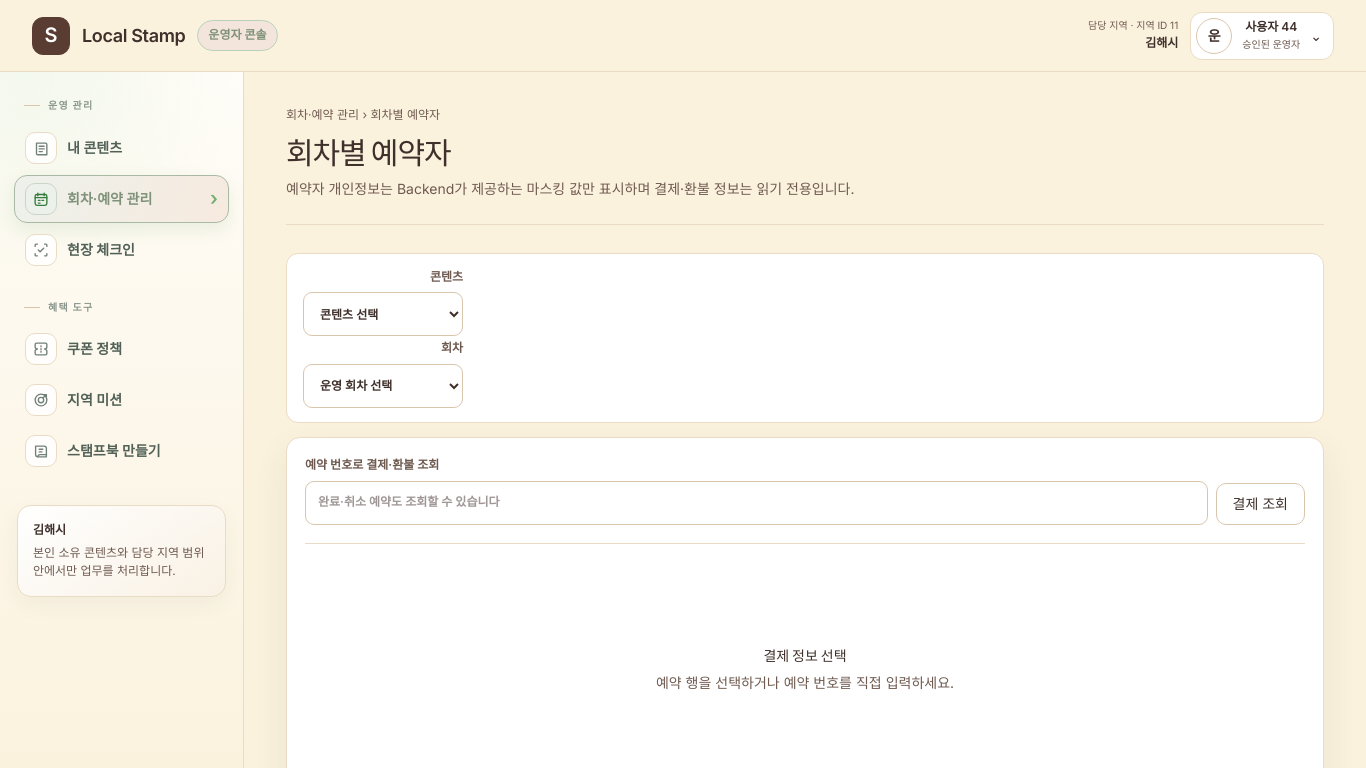
Scenario: 운영자 결제 조회·체크인 프론트 흐름 › 현재 회차가 비어 있어도 예약번호로 과거 환불 상태를 조회한다
This screenshot has width=1366, height=768.
Type "R-REFUND-100" into the field labelled "예약 번호로 결제·환불 조회" at (756, 503), box x1=305 y1=481 x2=1208 y2=525
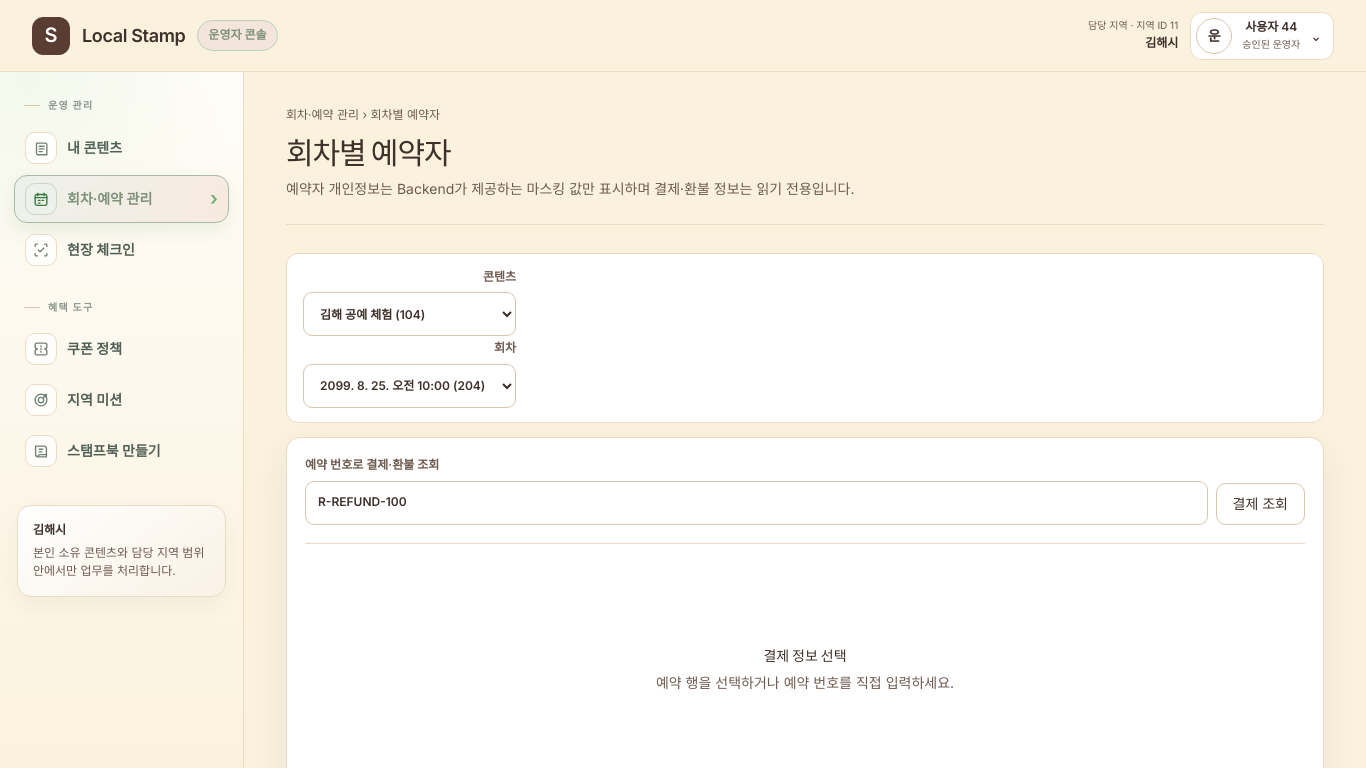
Click the button "결제 조회" at (1260, 504), box x1=1216 y1=483 x2=1305 y2=525
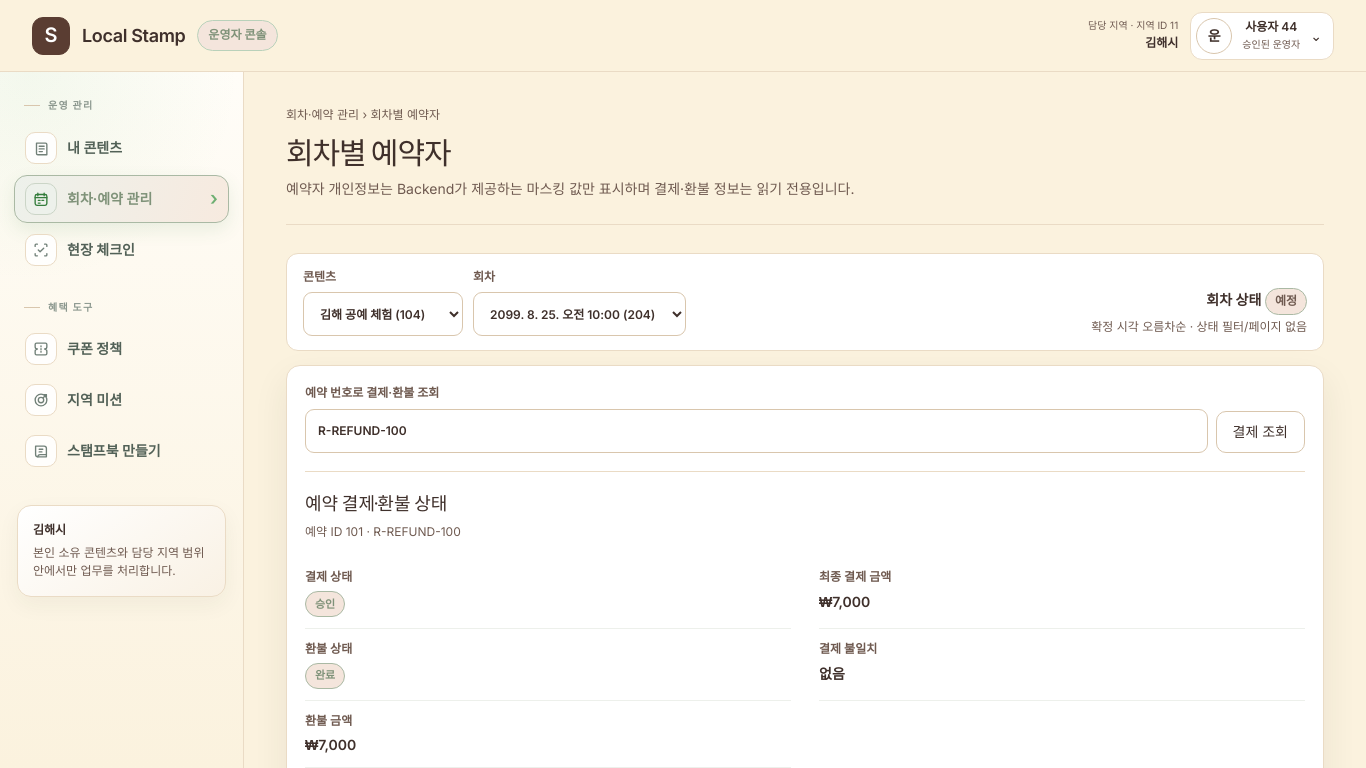
Expected: the text "₩7,000" is shown 2 times, x1=819 y1=593 x2=870 y2=610; x1=305 y1=736 x2=356 y2=753
Expected: the text "완료" is shown, x1=305 y1=663 x2=345 y2=689
